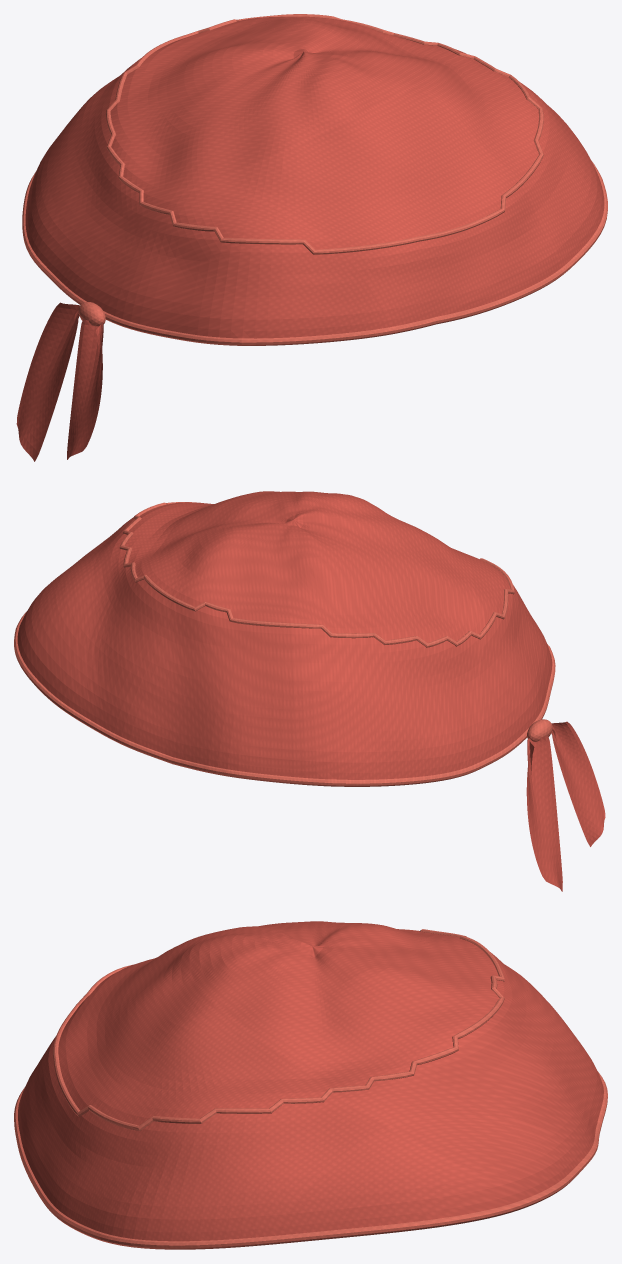
File: side_kiyo_headcloth.glb
The picture shows the model from 3 angles, top to bottom: view 1: azimuth 30°, elevation 25°; view 2: azimuth 150°, elevation 25°; view 3: azimuth 270°, elevation 25°; orthographic projection. The views are drawn at different scales.
Visible parts, largest first — view 1: wash_dyed_linen, sewn_fold; view 2: wash_dyed_linen, sewn_fold; view 3: wash_dyed_linen, sewn_fold.
Boxes of the visible parts, x1,y1,x2,y2 form: wash_dyed_linen: (16, 16, 604, 461); sewn_fold: (22, 14, 607, 345); wash_dyed_linen: (17, 491, 605, 891); sewn_fold: (14, 502, 555, 786); wash_dyed_linen: (18, 921, 603, 1241); sewn_fold: (14, 929, 607, 1249).
Bounding box in the file's own units: 16.08 × 9.67 × 13.79.
3 materials, 3 textured.
